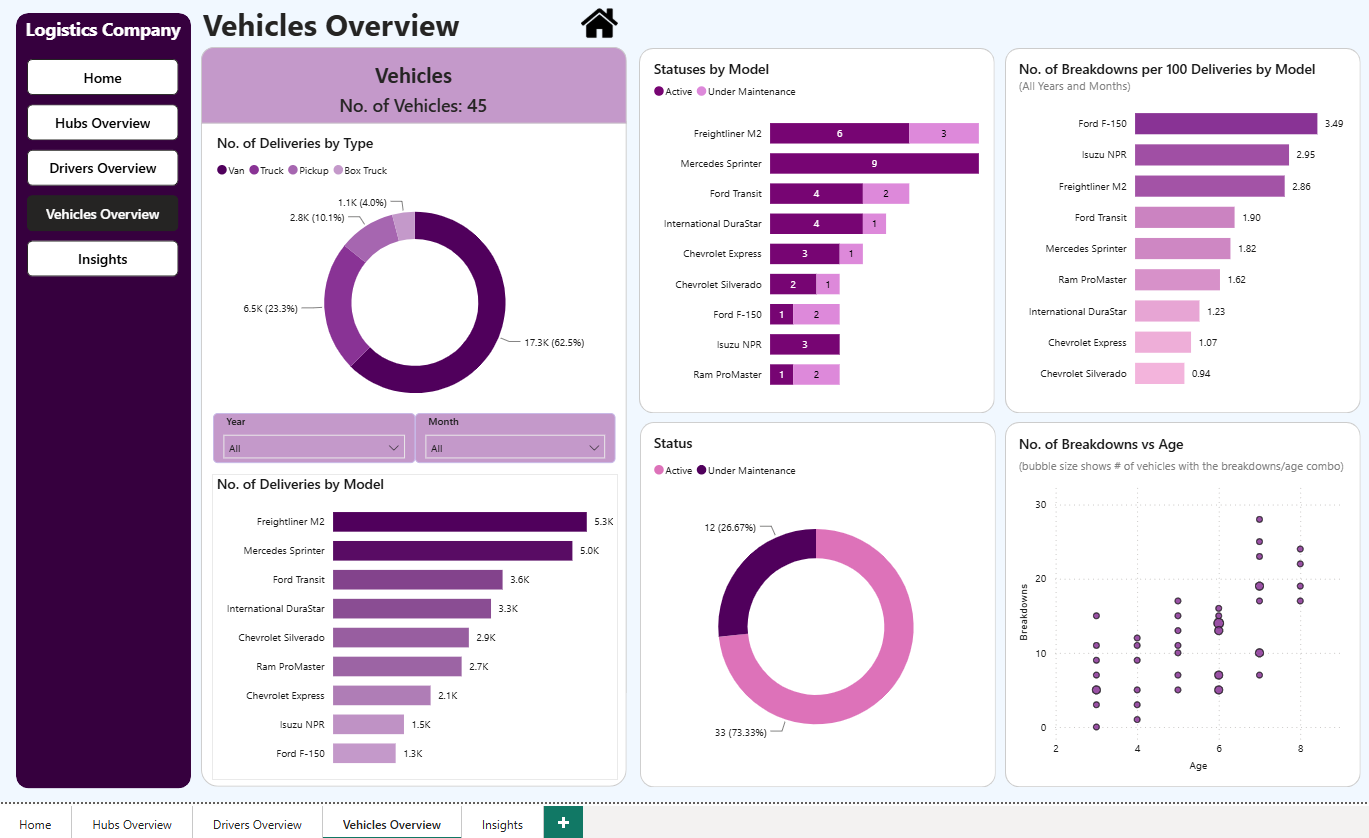

This screenshot's page, from the dashboard's own definition file:
{"tool":"powerbi","page":{"name":"Vehicles Overview","canvas":[1450,850],"ordinal":3},"visuals":[{"type":"shape","box":[213,52,450,782],"z":0},{"type":"shape","box":[676.2,448.8,376.2,386.2],"z":1000},{"type":"shape","box":[676,53,376,386],"z":2000},{"type":"shape","box":[16.5,15.4,185.1,819.8],"z":3000},{"type":"textbox","box":[209.3,0,498,62.8],"z":4000},{"type":"image","box":[613.8,0,38.8,52.5],"z":7000},{"type":"shape","box":[213,52,450,81],"z":8000},{"type":"textbox","box":[356.2,62,161.7,56],"z":9000},{"type":"cardVisual","fields":{"Data":["Vehicles.No of Vehicles"]},"box":[338.8,93,197.4,37],"z":10000},{"type":"shape","box":[1062,53,376,386],"z":11000},{"type":"shape","box":[1062.5,448.8,376,386],"z":12000},{"type":"barChart","title":"Statuses by Model","fields":{"Category":["Vehicles.Vehicle Model"],"Y":["CountNonNull(Vehicles.Vehicle ID)"],"Series":["Vehicles.Vehicle Status"]},"box":[686.1,64.5,353.8,362.5],"z":13000},{"type":"donutChart","title":"No. of Deliveries by Type","fields":{"Category":["Orders.Vehicle Type"],"Y":["Orders.Delivered Orders"]},"box":[224,143,429,311],"z":14000},{"type":"pageNavigator","box":[28.8,65,160,231.2],"z":15000},{"type":"donutChart","title":"Status ","fields":{"Category":["Vehicles.Vehicle Status"],"Y":["CountNonNull(Vehicles.Vehicle ID)"]},"box":[686,460,353,362],"z":16000},{"type":"barChart","title":"No. of Deliveries by Model","fields":{"Category":["Vehicles.Vehicle Model"],"Y":["Orders.Delivered Orders"]},"box":[224.1,503.2,429.2,323.5],"z":17000},{"type":"scatterChart","title":"No. of Breakdowns vs Age","fields":{"X":["Vehicles.Vehicle Age"],"Y":["Vehicles.Breakdown"],"Size":["CountNonNull(Vehicles.Vehicle ID)"]},"box":[1072.5,461.2,353.8,362.5],"z":18000},{"type":"barChart","title":"No. of Breakdowns per 100 Deliveries by Model","fields":{"Category":["Vehicles.Vehicle Model"],"Y":["Vehicles.breakdowns per delivery"]},"box":[1072,64.5,353.8,362.5],"z":19000},{"type":"textbox","box":[20,15,177.5,35],"z":20000},{"type":"slicer","fields":{"Values":["Date Table.Year"]},"box":[225.2,438.7,213.6,52.9],"z":20500},{"type":"slicer","fields":{"Values":["Date Table.Month"]},"box":[438.7,438.7,212,52.9],"z":21000}]}

Visuals, with their boxes on the page's 1450x850 design canvas (x1, y1, x2, y2). These are canvas units, not pixel positions in the 1369x838 screenshot, which may show the page scaled, cropped or inside an application window:
shape: <region>213, 52, 663, 834</region>
shape: <region>676, 449, 1052, 835</region>
shape: <region>676, 53, 1052, 439</region>
shape: <region>16, 15, 202, 835</region>
textbox: <region>209, 0, 707, 63</region>
image: <region>614, 0, 653, 52</region>
shape: <region>213, 52, 663, 133</region>
textbox: <region>356, 62, 518, 118</region>
cardVisual - Vehicles.No of Vehicles: <region>339, 93, 536, 130</region>
shape: <region>1062, 53, 1438, 439</region>
shape: <region>1062, 449, 1438, 835</region>
"Statuses by Model" barChart: <region>686, 64, 1040, 427</region>
"No. of Deliveries by Type" donutChart: <region>224, 143, 653, 454</region>
pageNavigator: <region>29, 65, 189, 296</region>
"Status " donutChart: <region>686, 460, 1039, 822</region>
"No. of Deliveries by Model" barChart: <region>224, 503, 653, 827</region>
"No. of Breakdowns vs Age" scatterChart: <region>1072, 461, 1426, 824</region>
"No. of Breakdowns per 100 Deliveries by Model" barChart: <region>1072, 64, 1426, 427</region>
textbox: <region>20, 15, 198, 50</region>
slicer - Date Table.Year: <region>225, 439, 439, 492</region>
slicer - Date Table.Month: <region>439, 439, 651, 492</region>
